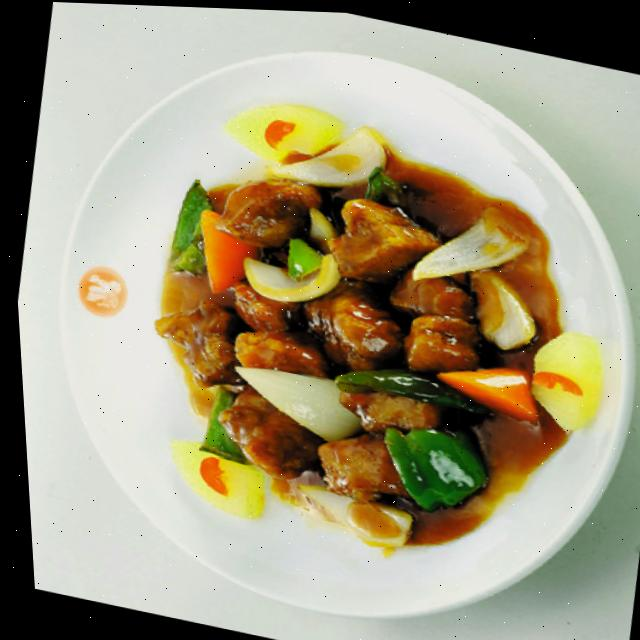猪肉菜式: (102, 70, 638, 585)
